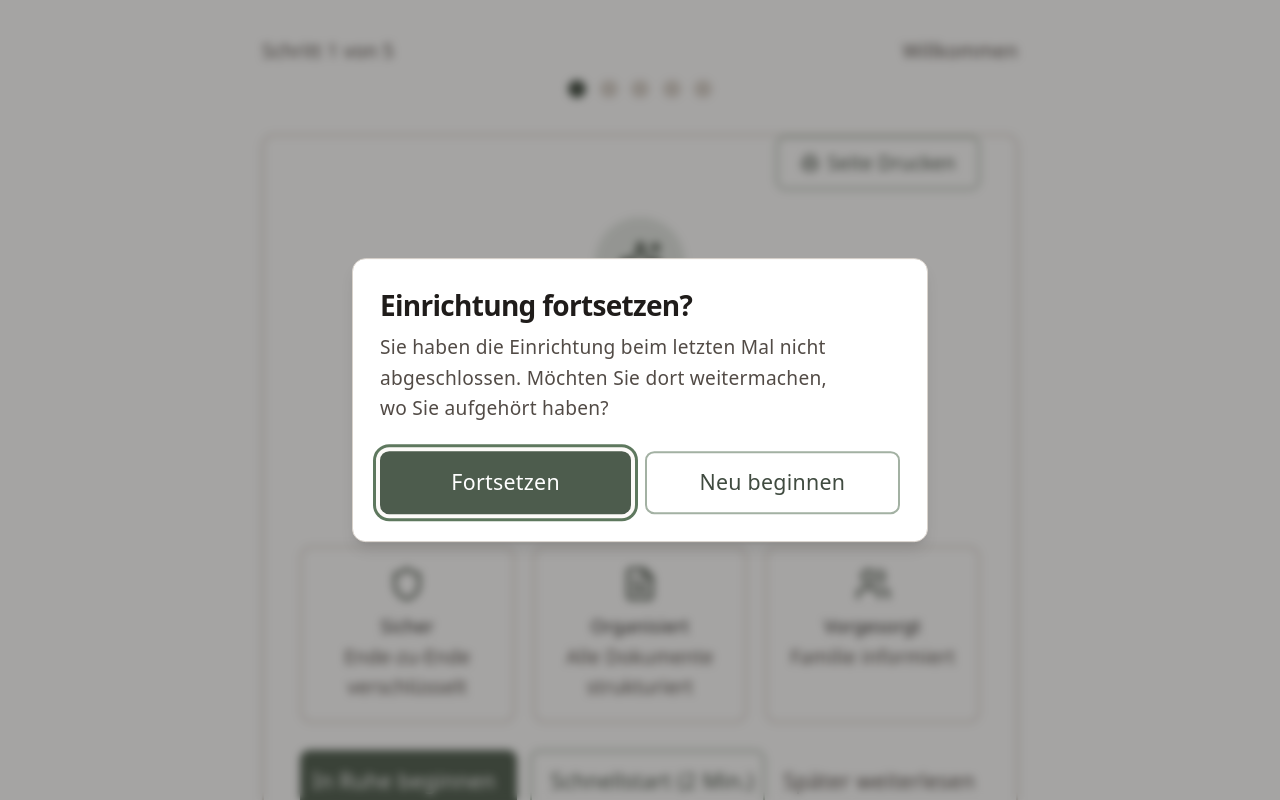
Test: Onboarding Category Cards — T-03 › category cards have overflow-hidden and line-clamp-2 on name text
Click the button "Fortsetzen". click: (506, 482)
box: [380,451,631,514]
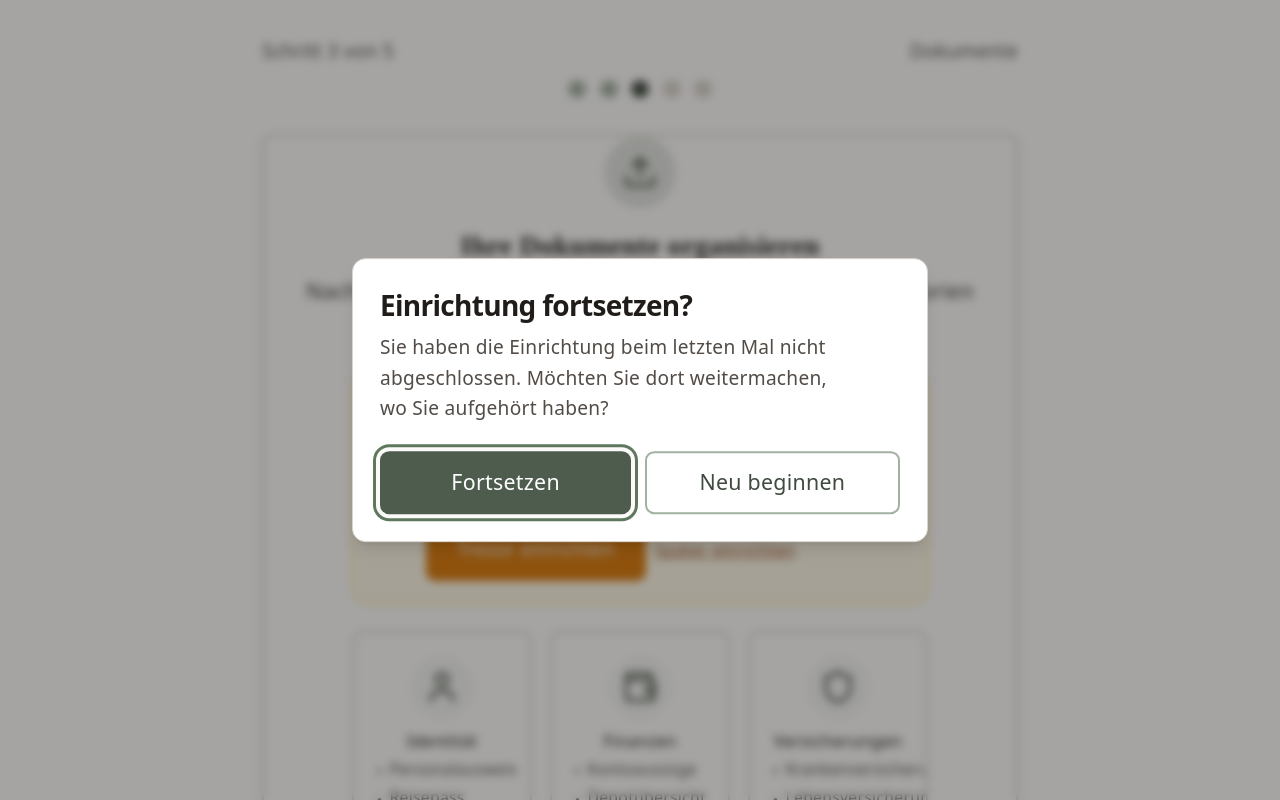
expect the heading "Ihre Dokumente organisieren" is shown: met, box [460,230,820,261]
expect the text "Identität" is shown: met, box [407,729,477,752]
